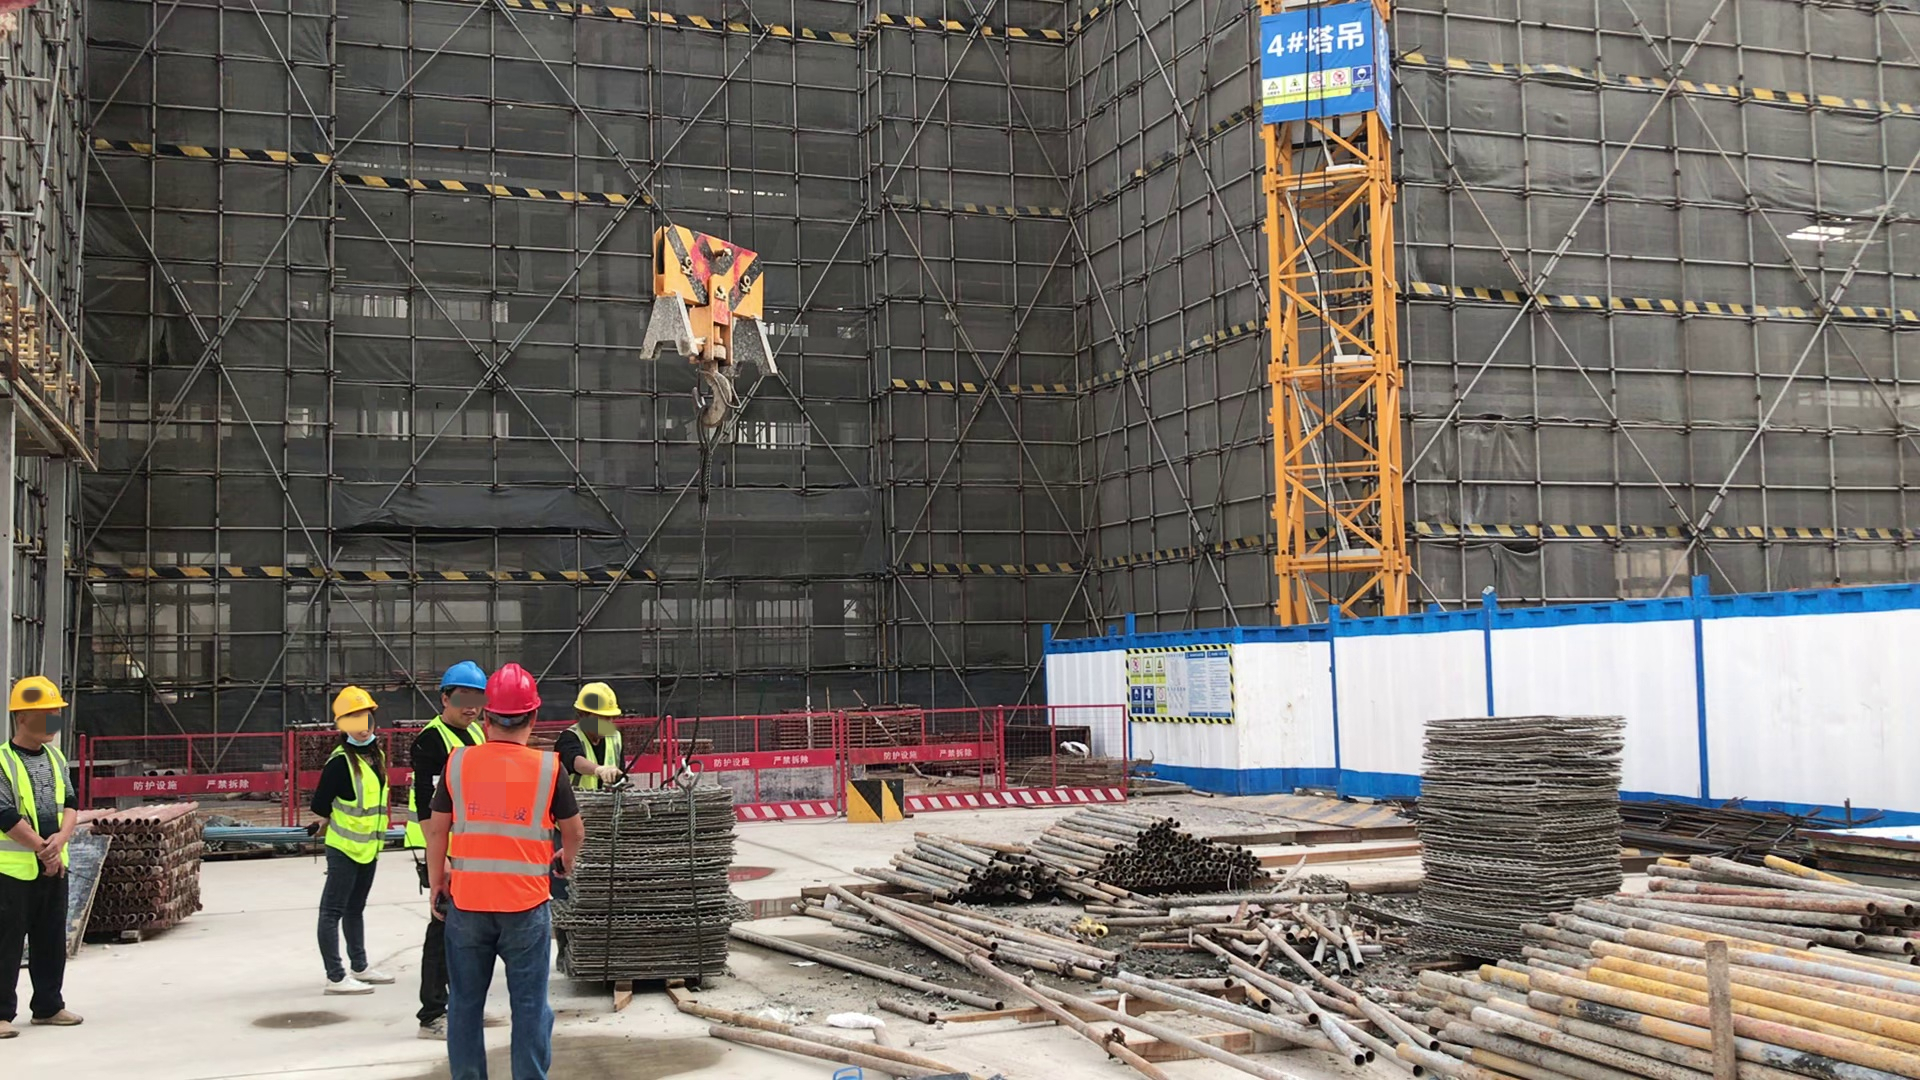fence: (913, 704, 1129, 804), (102, 731, 297, 809), (728, 701, 840, 827)
helmet: (487, 668, 543, 717), (10, 676, 70, 714), (329, 686, 377, 720), (576, 684, 622, 720), (440, 665, 486, 692)
hook: (637, 222, 780, 423)
person: (426, 664, 589, 1080), (1, 674, 88, 1038), (309, 681, 401, 998), (568, 679, 632, 786), (410, 663, 485, 748)
scaffold: (1389, 856, 1906, 1080), (1024, 798, 1274, 898), (869, 820, 1080, 926), (107, 800, 210, 942)
slogan: (1266, 4, 1373, 115), (1124, 642, 1230, 716)
vest: (444, 741, 560, 915), (2, 741, 76, 882), (326, 744, 391, 866), (570, 726, 621, 783)
